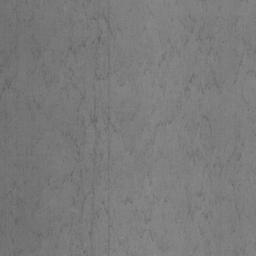Silk spot: (0, 0, 145, 256), (152, 71, 244, 182), (130, 13, 224, 74), (121, 139, 168, 241), (175, 184, 231, 246), (231, 16, 256, 84), (0, 128, 42, 156), (9, 0, 48, 27), (234, 242, 256, 256)
